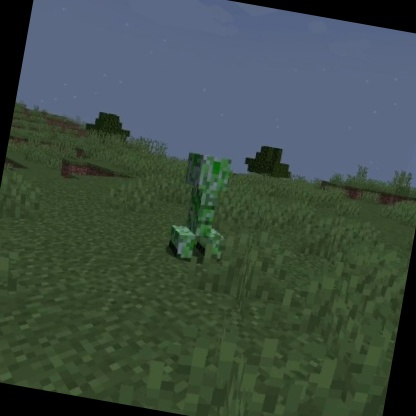creeper: (164, 149, 241, 270)
